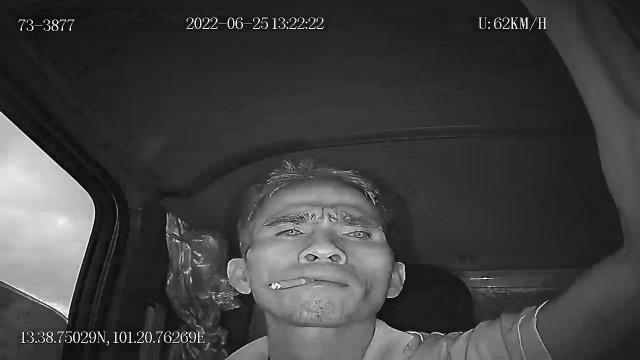SafeDriving: (267, 220, 312, 242), (336, 222, 378, 243)
Smoking: (268, 278, 316, 290)
